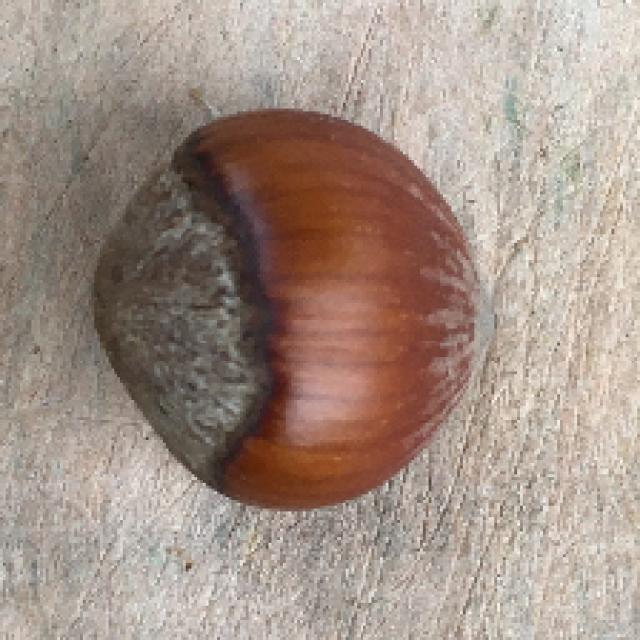qualityHazelnut: (94, 104, 499, 514)
